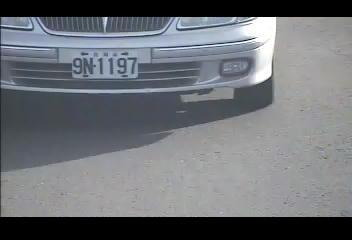plate: (70, 50, 139, 79)
